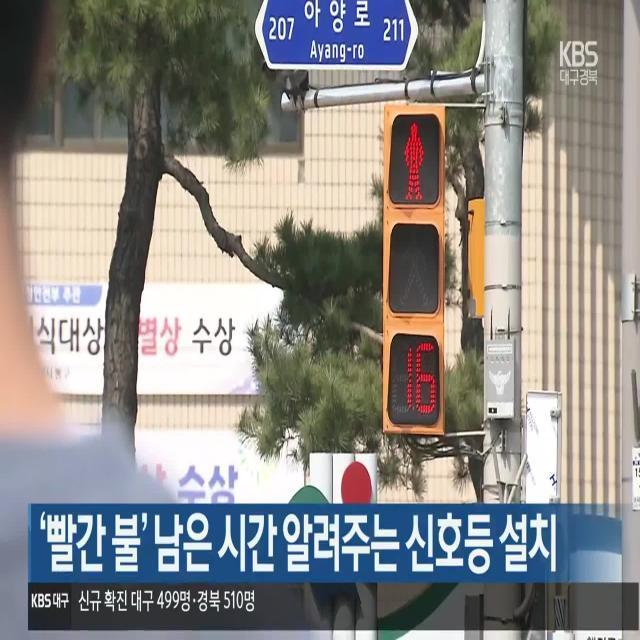red_light: (392, 117, 436, 426)
